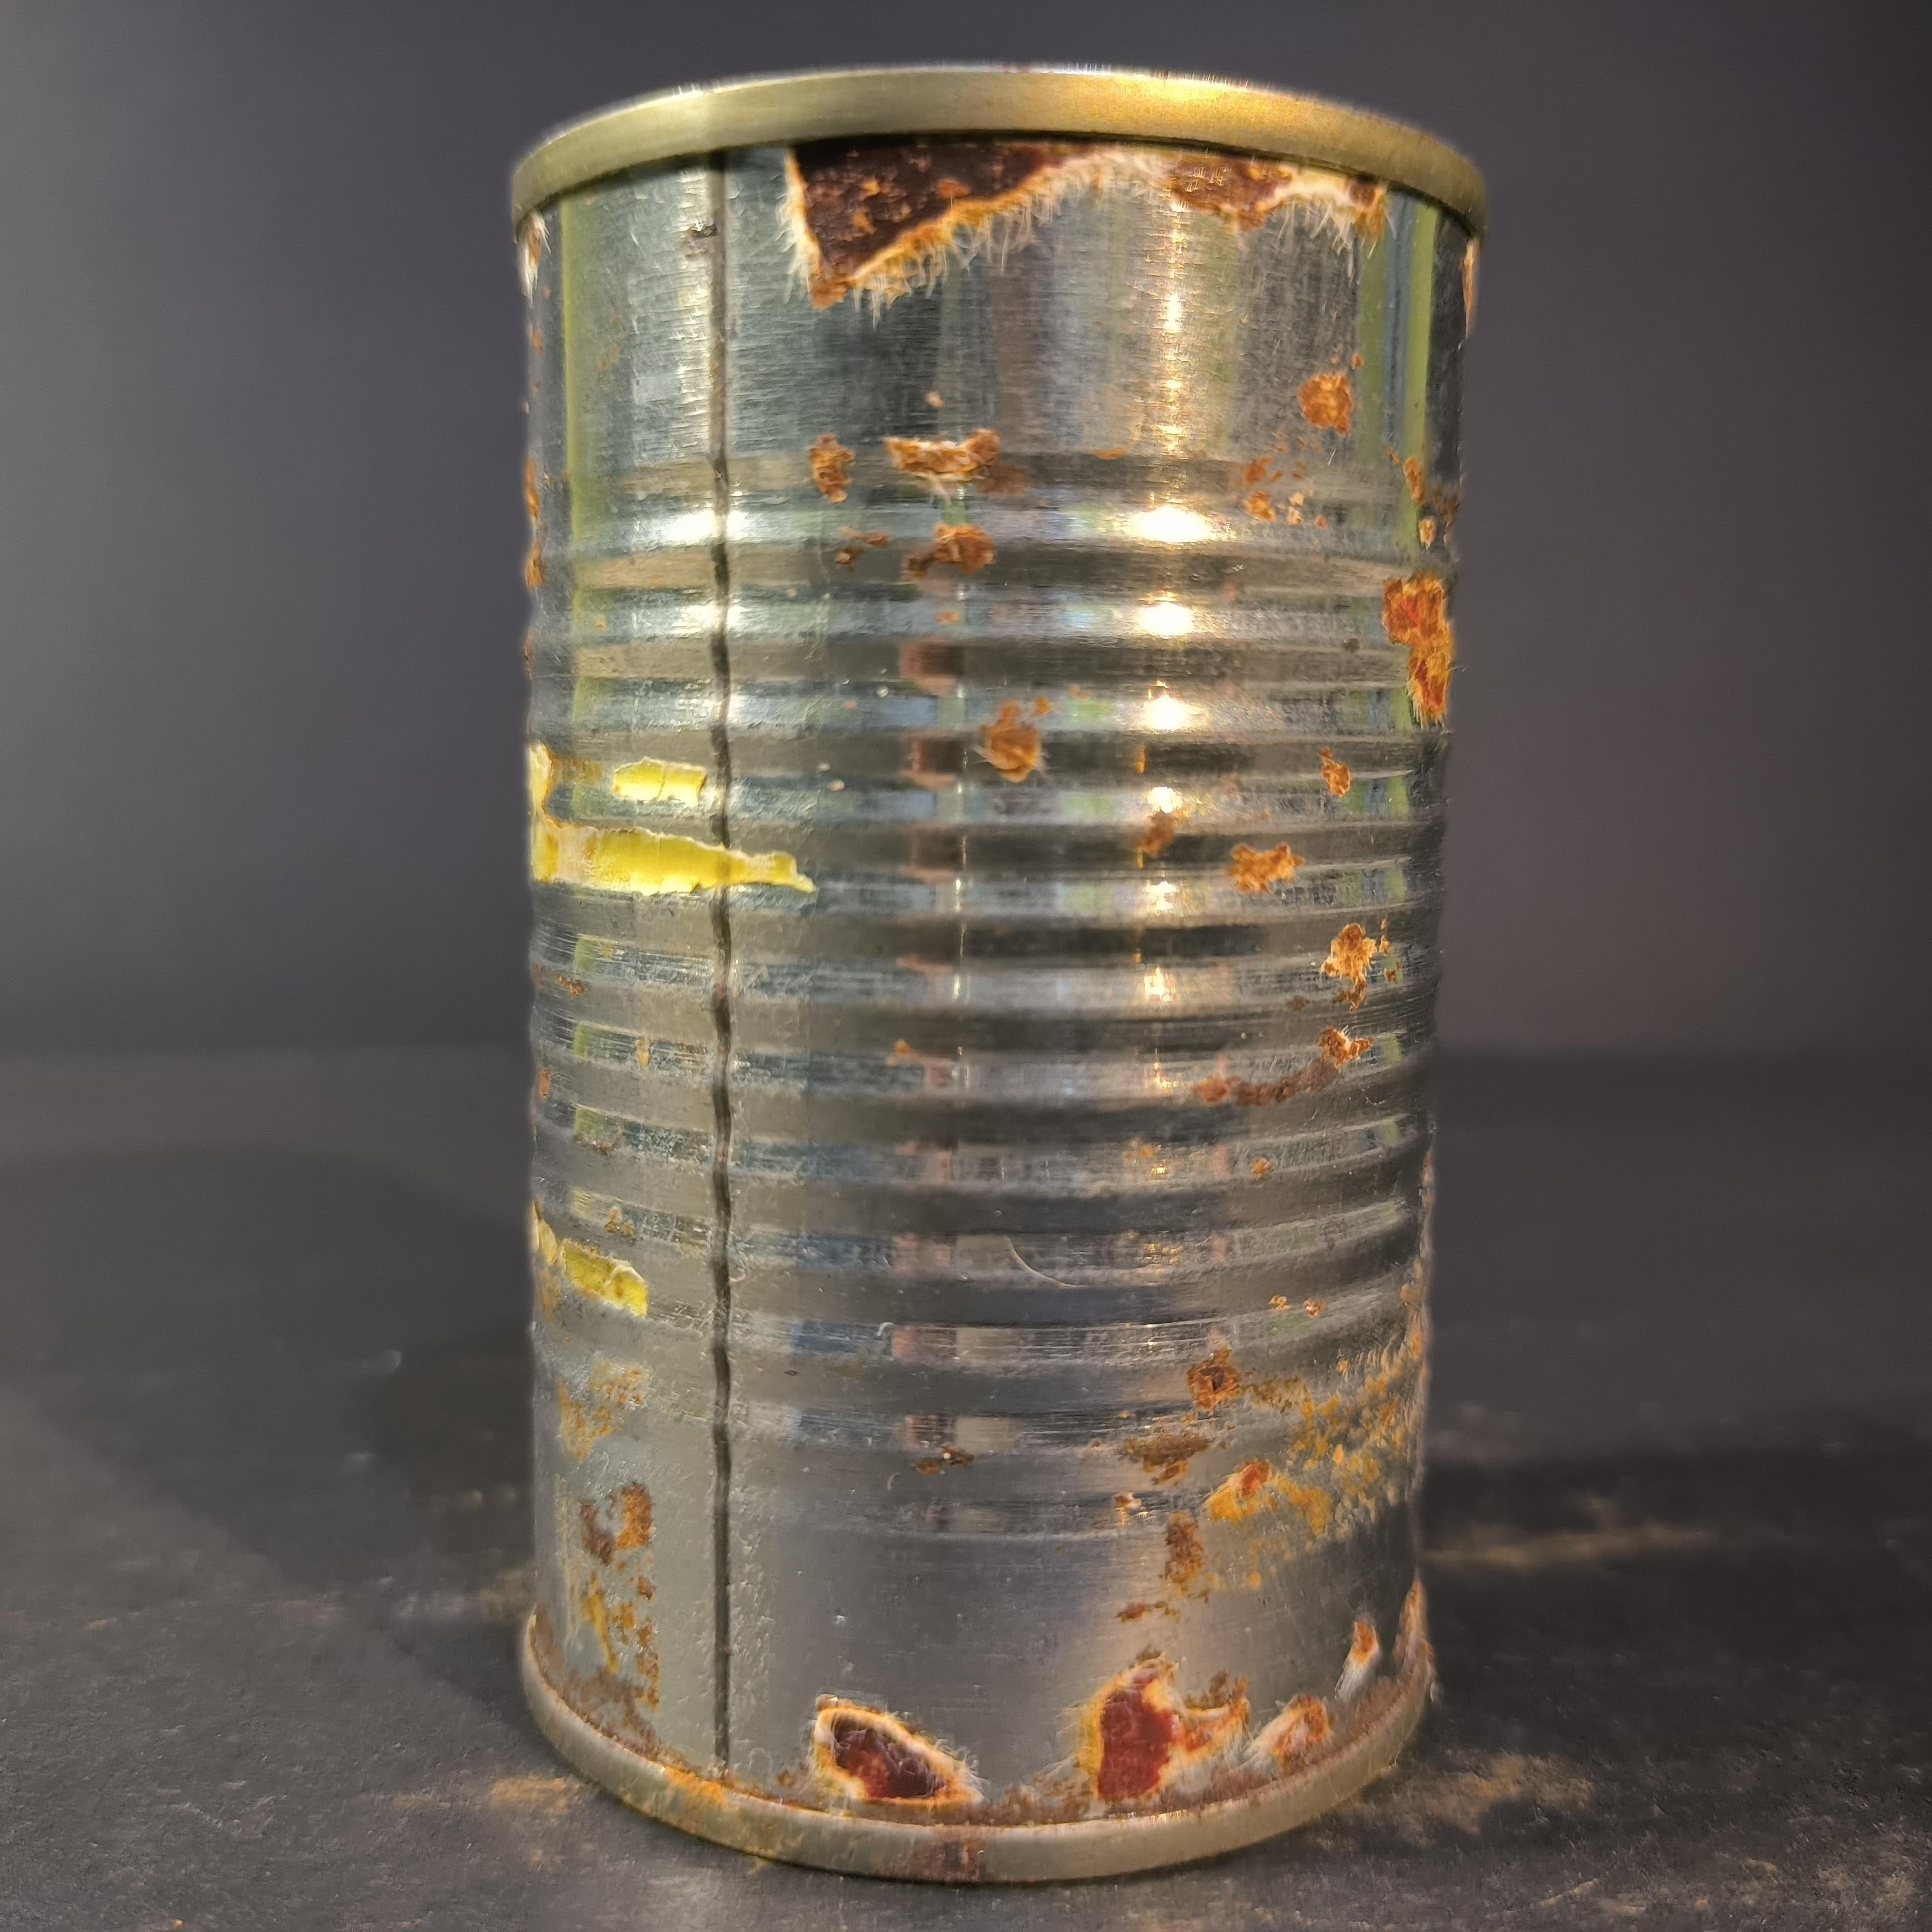Rusted: (492, 50, 1488, 1904)
